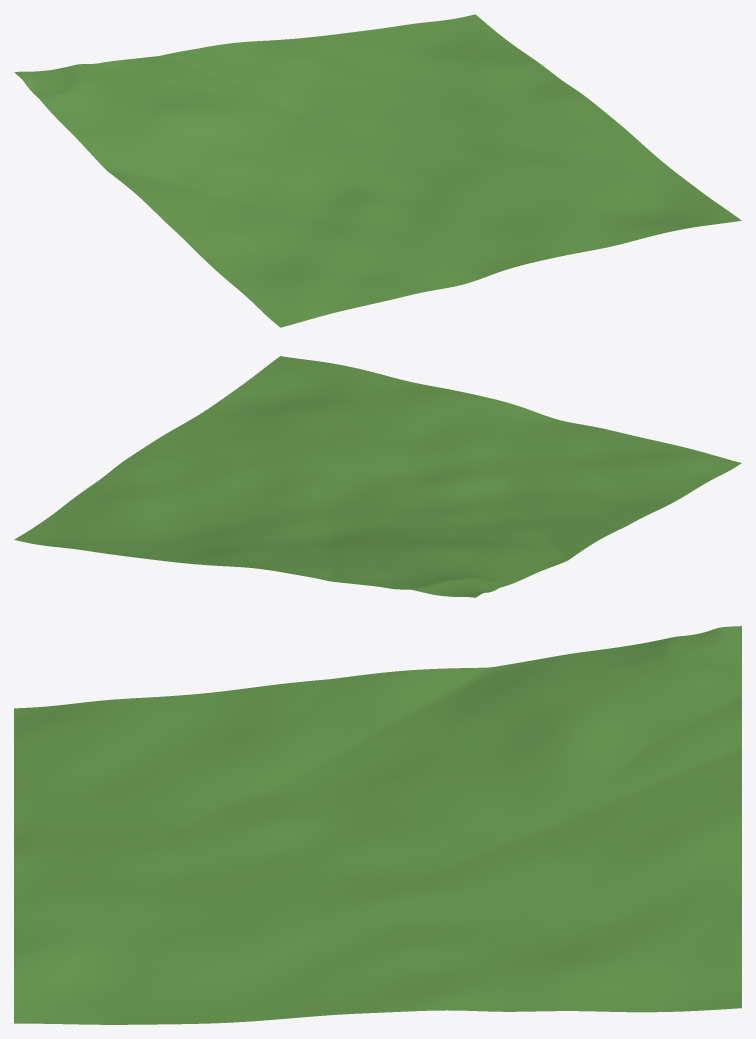
File: SM_Terrain_06_06.fbx
3 views of the same model, one above another, from view 1: azimuth 30°, elevation 25°; view 2: azimuth 150°, elevation 25°; view 3: azimuth 270°, elevation 25° (orthographic). The views are drawn at different scales.
Parts seen in each view (by area): view 1: SM_Terrain_06_06; view 2: SM_Terrain_06_06; view 3: SM_Terrain_06_06.
Part boxes in pixels (x1,y1,x2,y2): SM_Terrain_06_06: [14, 14, 741, 327]; SM_Terrain_06_06: [14, 356, 741, 597]; SM_Terrain_06_06: [14, 626, 741, 1024].
Size of the model in its own units: 384 by 53.25 by 384.
